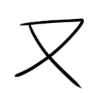nu: (12, 15, 88, 89)
